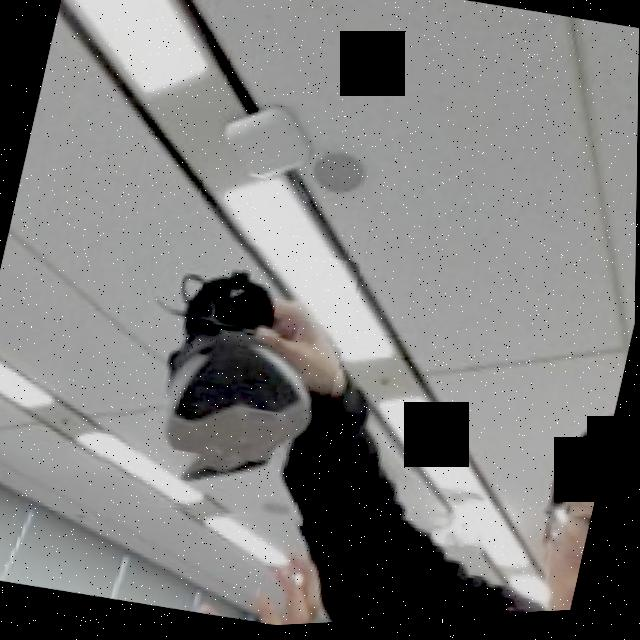shoe: (90, 221, 362, 541)
